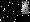person: (23, 2, 30, 15), (20, 2, 25, 15)
